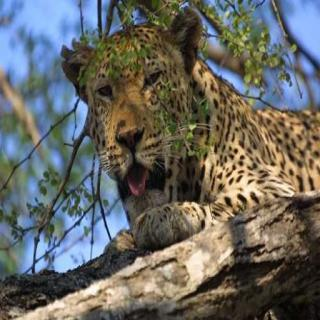Leopard: (55, 33, 320, 258)
